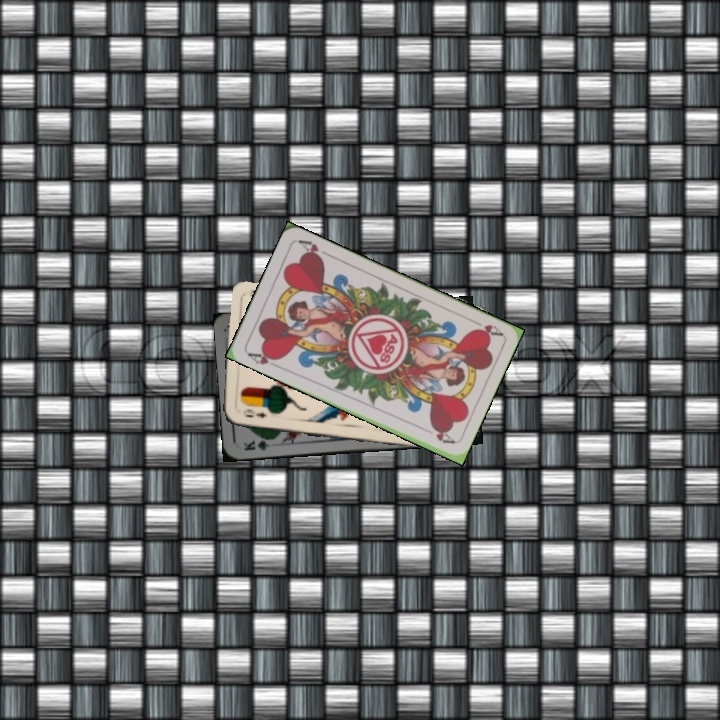EO: (239, 405, 268, 421)
GK: (240, 434, 277, 453)
HA: (243, 346, 282, 370), (466, 315, 505, 339)
